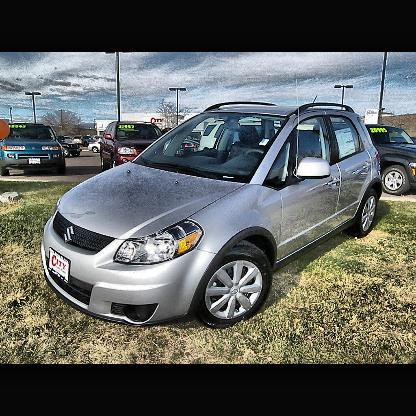Suzuki SX4 Hatchback 2012: (42, 102, 384, 331)
